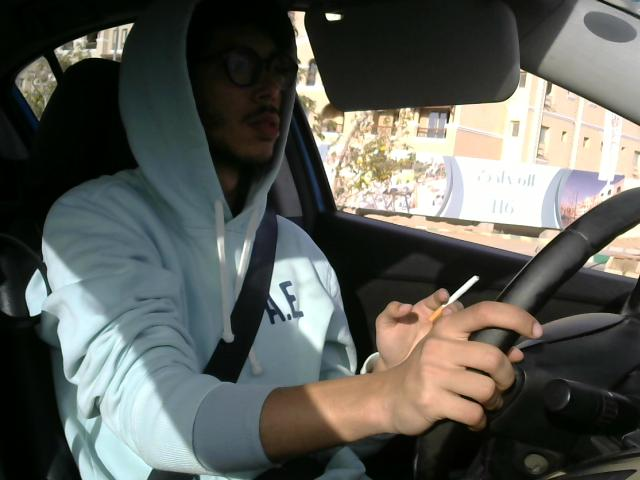Smoking: (425, 270, 486, 330)
